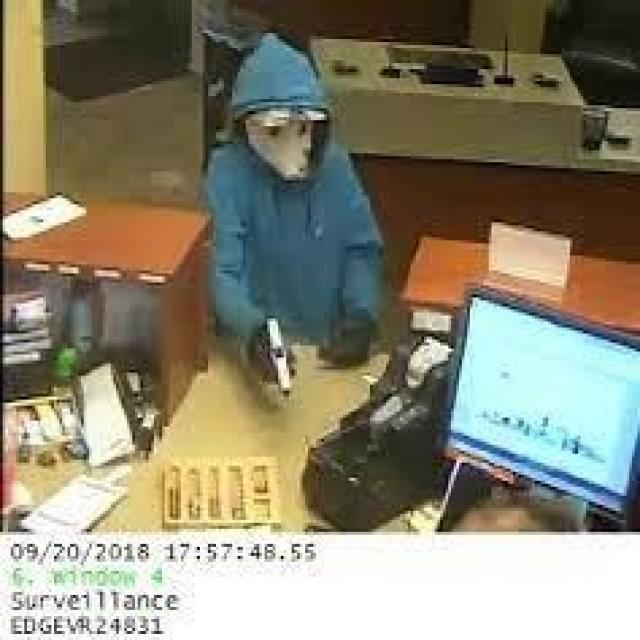gun: (257, 317, 293, 397)
